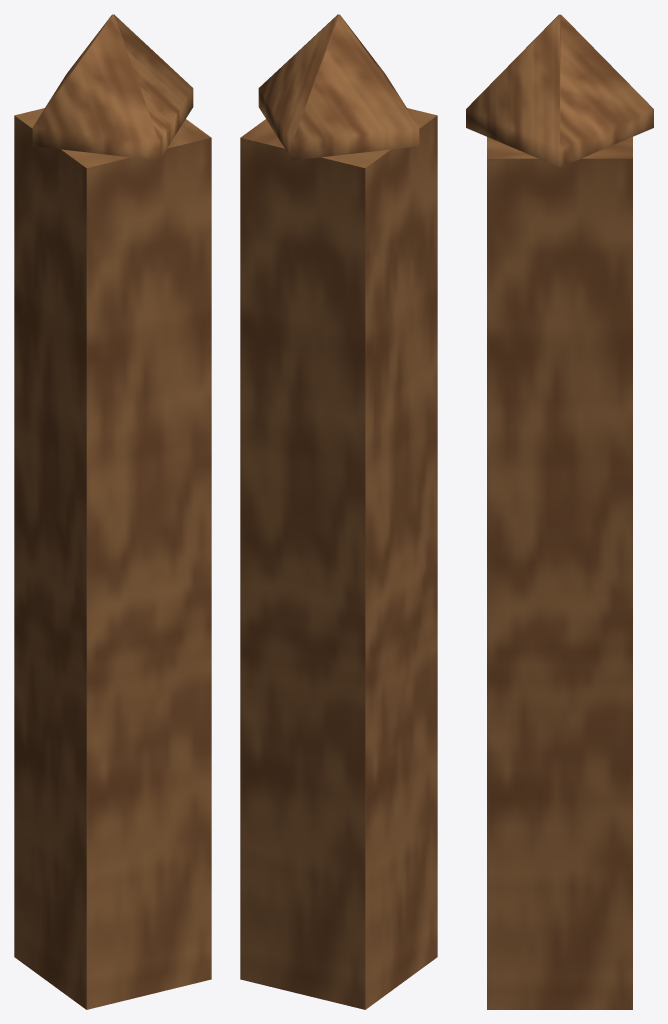
File: fence-post.gltf
The picture shows the model from 3 angles, left to right: view 1: azimuth 30°, elevation 25°; view 2: azimuth 150°, elevation 25°; view 3: azimuth 270°, elevation 25°; orthographic projection.
Bounding box in the file's own units: 0.18 × 1.02 × 0.18.
Materials: 1 (1 with a texture image).
